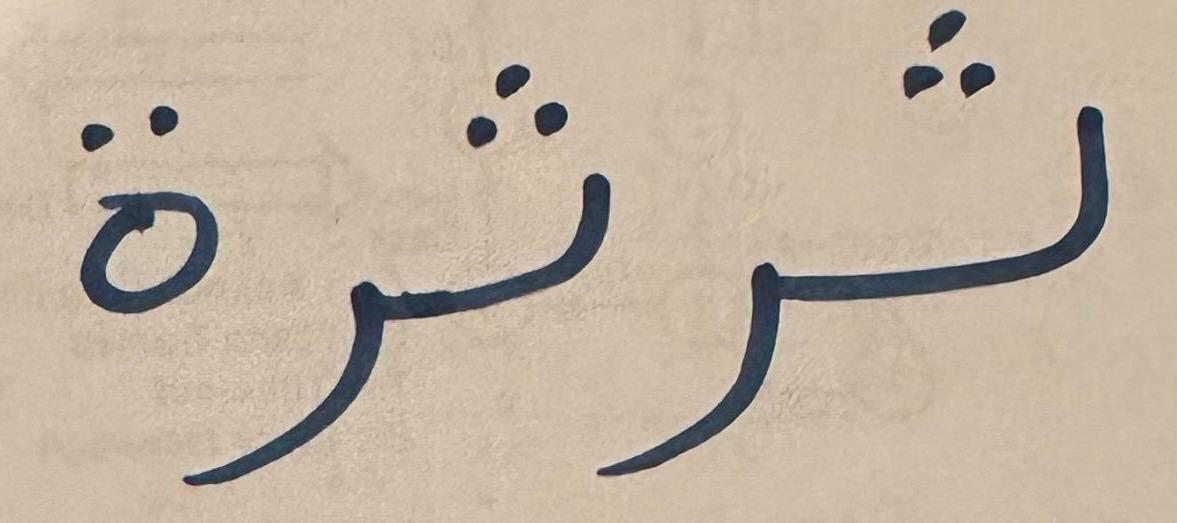sad: (629, 166, 815, 504), (235, 223, 404, 500)
thal: (45, 52, 232, 331)
waw: (818, 3, 1150, 397), (408, 33, 627, 357)
